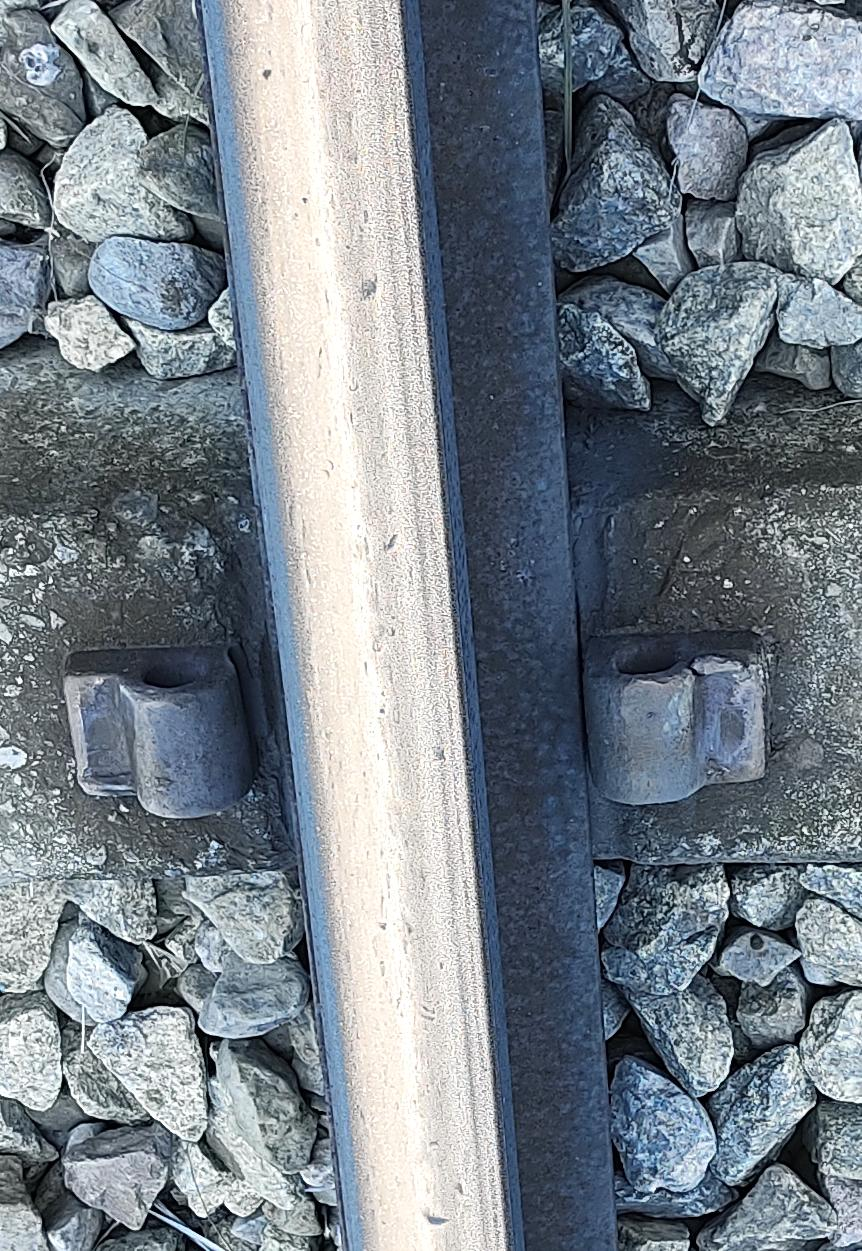error1: (558, 589, 811, 841), (38, 621, 287, 860)
